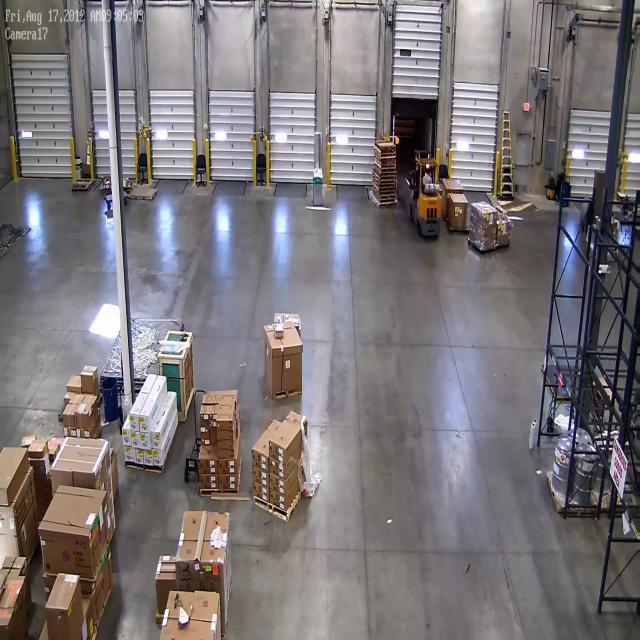human: (422, 162, 432, 189)
product 1: (51, 433, 120, 571), (176, 510, 230, 616), (42, 483, 108, 569), (264, 321, 304, 402), (159, 589, 221, 640), (0, 486, 38, 556), (440, 178, 463, 221), (92, 557, 112, 602), (469, 222, 495, 256), (450, 194, 467, 231), (472, 196, 495, 222), (498, 225, 513, 252), (276, 314, 300, 329)
product 2: (273, 323, 284, 337)
product 3: (139, 414, 149, 432), (152, 452, 162, 468), (151, 431, 159, 450), (140, 434, 150, 448), (122, 428, 130, 445), (130, 416, 139, 431), (125, 448, 134, 462), (144, 452, 151, 466), (131, 434, 139, 446), (136, 450, 143, 463)
product 4: (80, 364, 100, 396), (35, 481, 51, 516), (268, 438, 288, 461), (252, 442, 270, 467), (272, 487, 288, 512), (201, 449, 217, 474), (270, 476, 288, 498), (218, 460, 237, 477), (270, 459, 286, 479), (254, 481, 270, 501), (32, 457, 47, 478), (28, 441, 46, 458), (253, 465, 268, 485), (75, 405, 88, 428), (218, 477, 237, 492), (200, 474, 216, 490), (218, 414, 234, 430), (84, 395, 100, 410), (67, 373, 80, 391), (219, 447, 236, 458), (51, 438, 62, 455), (200, 404, 209, 424), (63, 406, 73, 424), (498, 205, 512, 217), (64, 427, 78, 439), (82, 427, 95, 439), (220, 396, 234, 407), (21, 435, 35, 446), (63, 391, 78, 401), (220, 406, 234, 416), (69, 393, 82, 403), (218, 430, 234, 438), (212, 405, 218, 426), (93, 411, 102, 425), (200, 422, 210, 434), (220, 438, 234, 446), (200, 434, 209, 444), (211, 431, 216, 444), (211, 422, 217, 431)
product 5: (50, 574, 80, 635), (3, 555, 35, 603), (1, 445, 28, 500), (8, 576, 30, 618), (156, 550, 177, 590), (82, 604, 98, 636), (1, 608, 17, 638), (0, 586, 22, 604)
